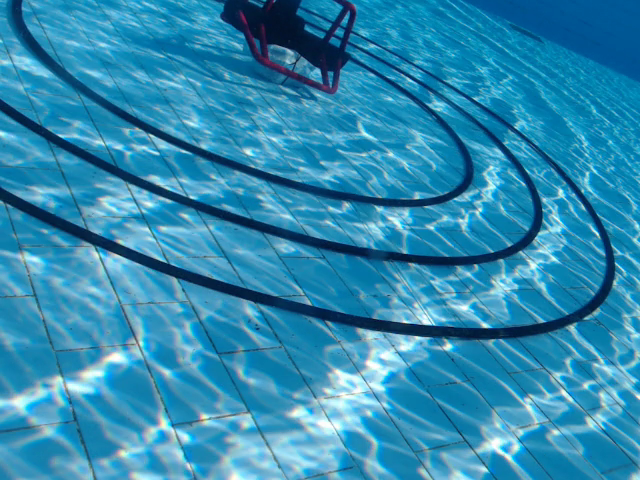submarine: (218, 1, 356, 95)
